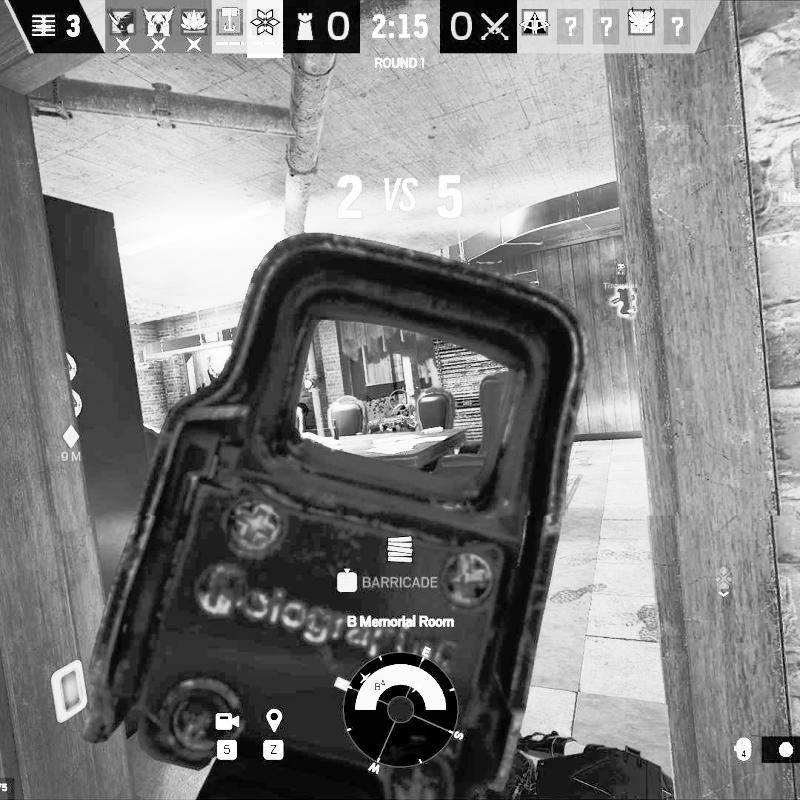Character: (368, 403, 416, 433)
Friend_label: (602, 262, 640, 290)
Head: (392, 404, 408, 416)
